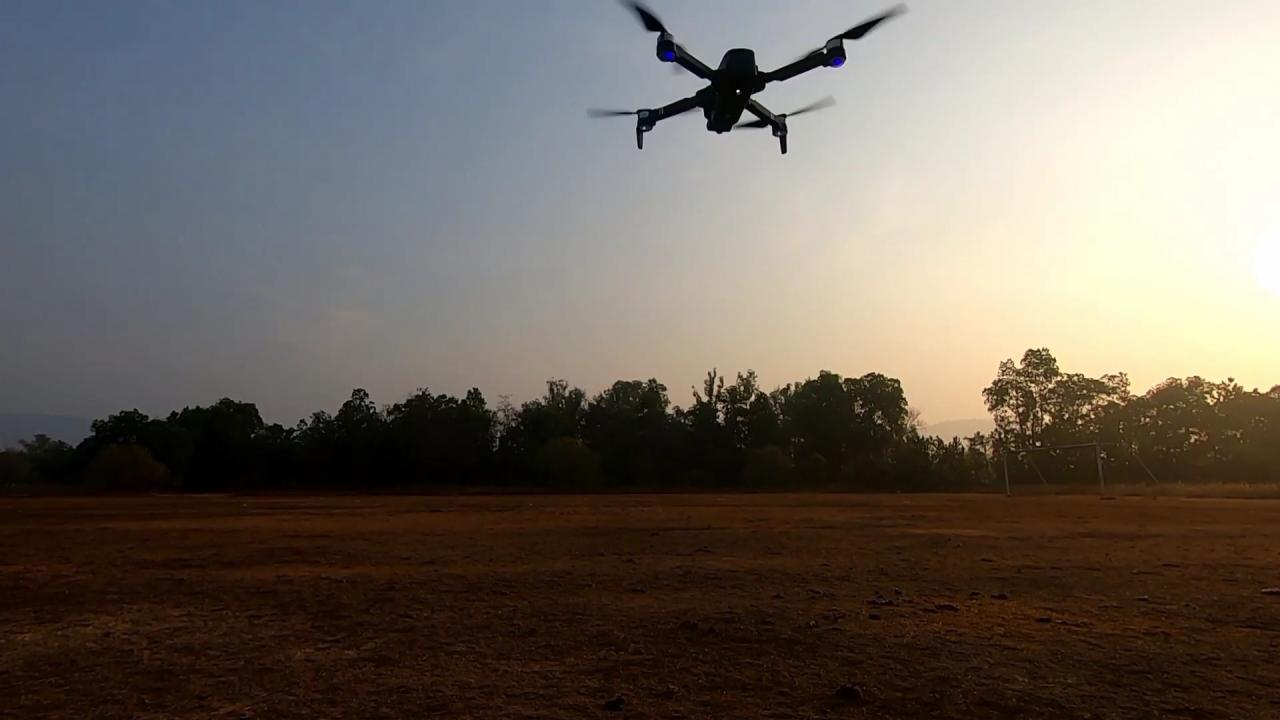Drone: (578, 0, 916, 164)
